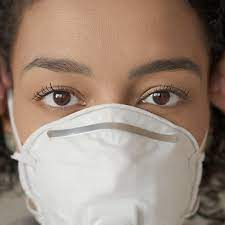FaceMask: (16, 104, 202, 225)
